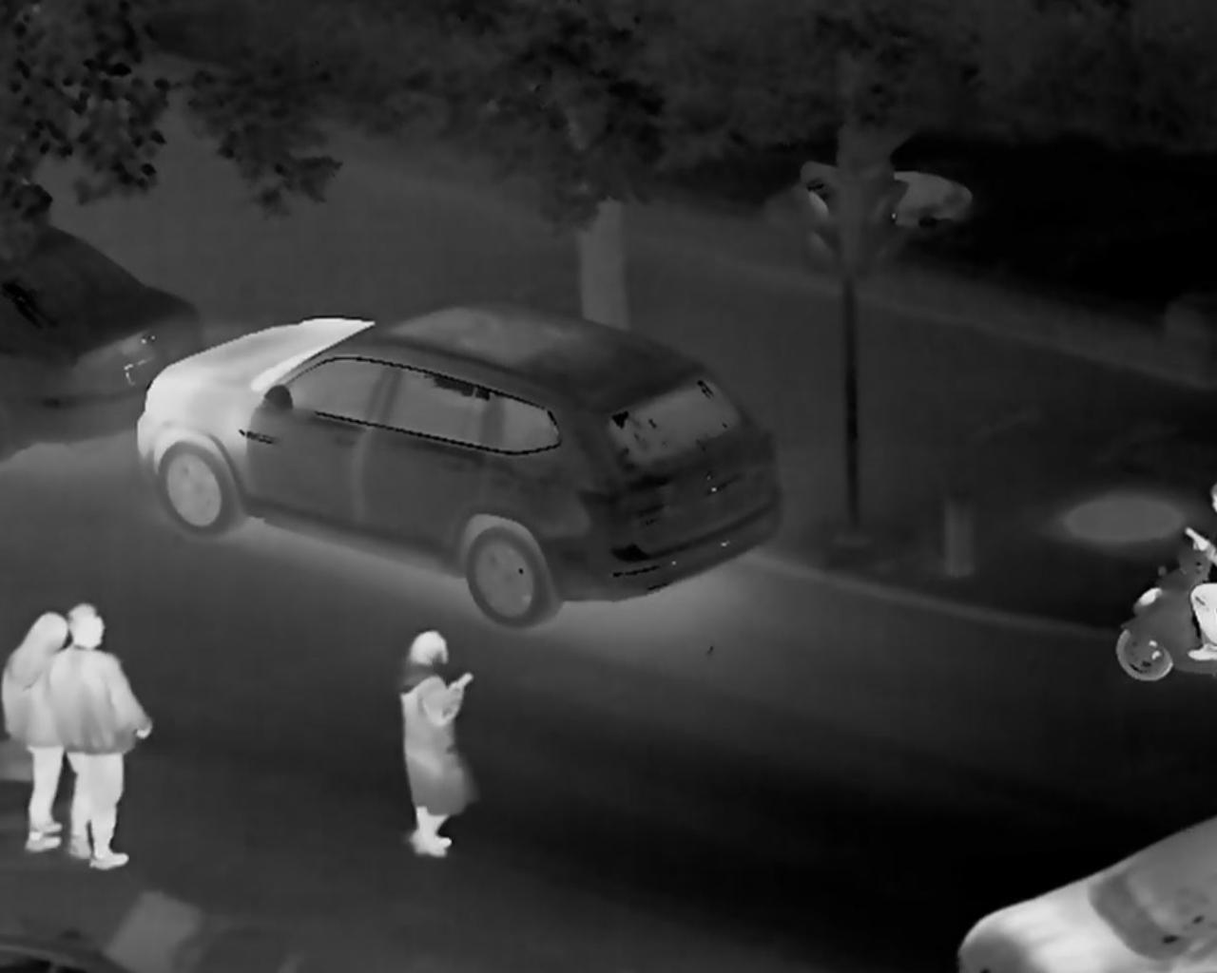person: (380, 609, 494, 881), (58, 585, 128, 856), (2, 594, 60, 856), (1188, 488, 1217, 629)
